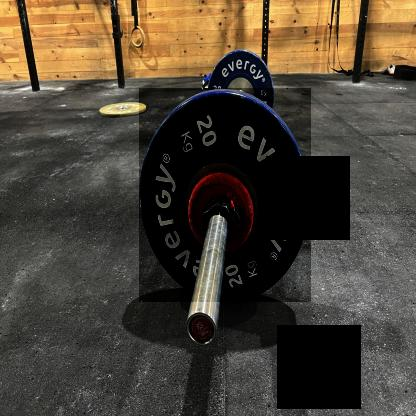barbell: (140, 89, 312, 303)
